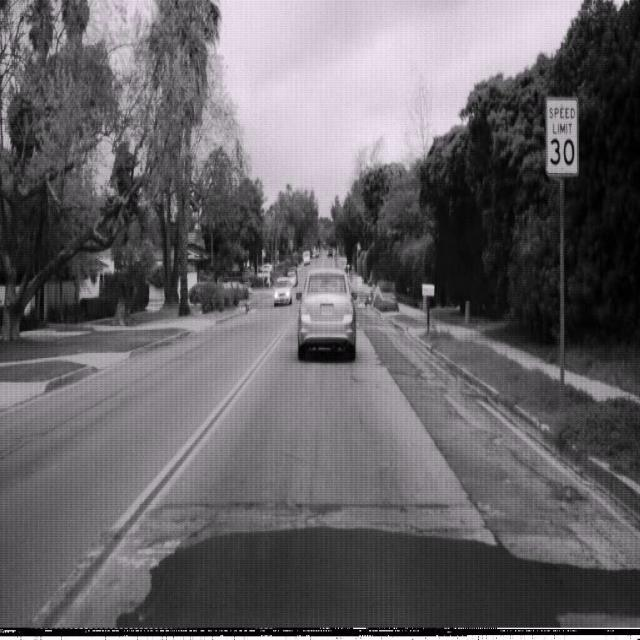speedLimit30: (544, 95, 579, 176)
